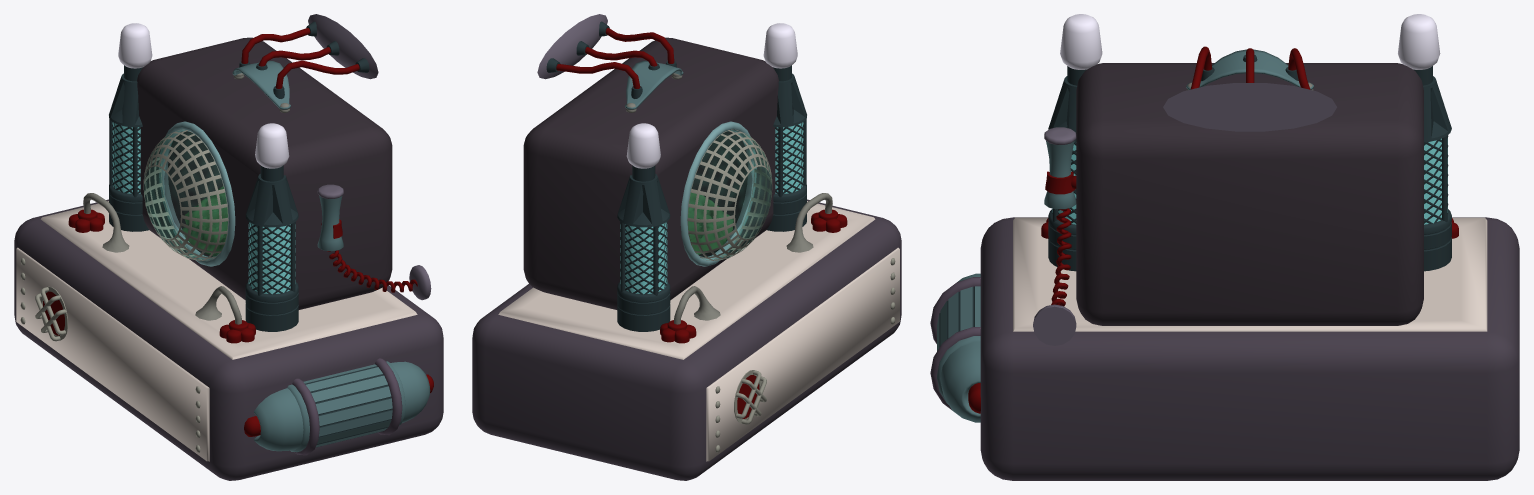
The model's file is EM_119_radar.glb.
3 views of the same model, side by side, from view 1: azimuth 30°, elevation 25°; view 2: azimuth 150°, elevation 25°; view 3: azimuth 270°, elevation 25° (orthographic). The views are drawn at different scales.
Visible parts, largest first — view 1: support_structure, radar_body, antenna_towers, power_engine, cables_top, radar_screen_grid, radar_screen_sphere_texture, energy_flowers, trail_out, radar_screen_frame, microphone, ventilation_hole (+2 smaller); view 2: support_structure, radar_body, antenna_towers, cables_top, radar_screen_grid, radar_screen_sphere_texture, trail_out, energy_flowers, radar_screen_frame, ventilation_hole, emerald_moon; view 3: support_structure, radar_body, antenna_towers, cables_top, power_engine, microphone, microphone_cable.
Part boxes in pixels (x1,y1,x2,y2): support_structure: (14, 199, 443, 480); radar_body: (137, 37, 392, 309); antenna_towers: (109, 23, 298, 331); power_engine: (244, 358, 433, 455); cables_top: (232, 14, 378, 112); radar_screen_grid: (143, 129, 228, 260); radar_screen_sphere_texture: (144, 130, 227, 259); energy_flowers: (68, 193, 255, 343); trail_out: (164, 131, 227, 256); radar_screen_frame: (159, 121, 235, 266); microphone: (317, 184, 431, 300); ventilation_hole: (35, 286, 67, 341); support_structure: (472, 199, 901, 480); radar_body: (523, 37, 778, 309); antenna_towers: (617, 23, 806, 331); cables_top: (537, 14, 683, 112); radar_screen_grid: (687, 129, 772, 260); radar_screen_sphere_texture: (688, 130, 771, 259); trail_out: (688, 131, 751, 256); energy_flowers: (660, 193, 847, 343); radar_screen_frame: (680, 121, 756, 266); ventilation_hole: (734, 370, 766, 424); emerald_moon: (688, 192, 733, 254); support_structure: (980, 217, 1519, 480); radar_body: (1076, 63, 1423, 325); antenna_towers: (1048, 14, 1451, 271); cables_top: (1163, 46, 1336, 131); power_engine: (930, 273, 980, 422); microphone: (1033, 127, 1076, 345); microphone_cable: (1051, 208, 1071, 306).
Size of the model in its own units: 2.38 by 3.11 by 4.07.
